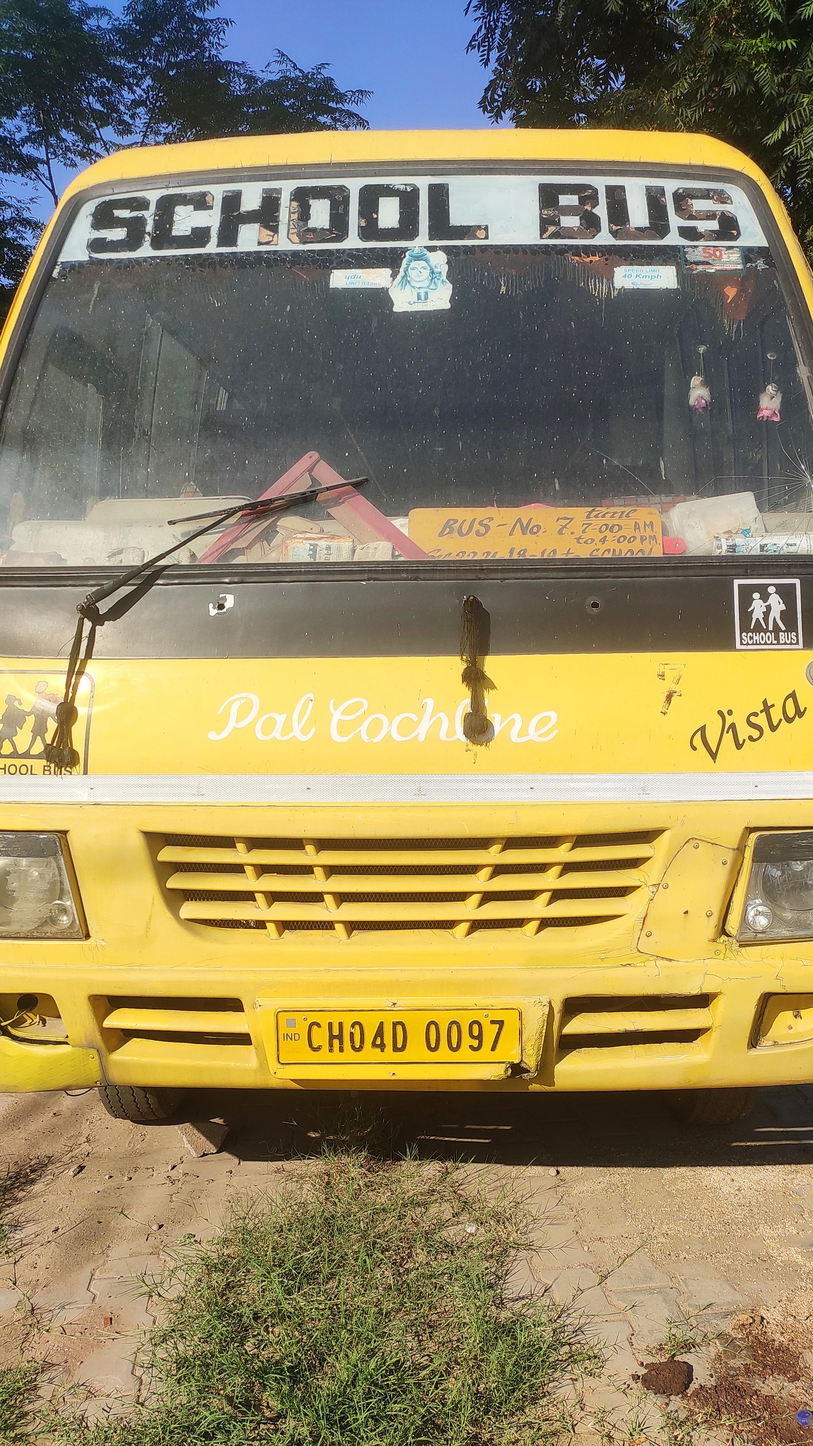Non-emergency: (0, 60, 813, 1293)
